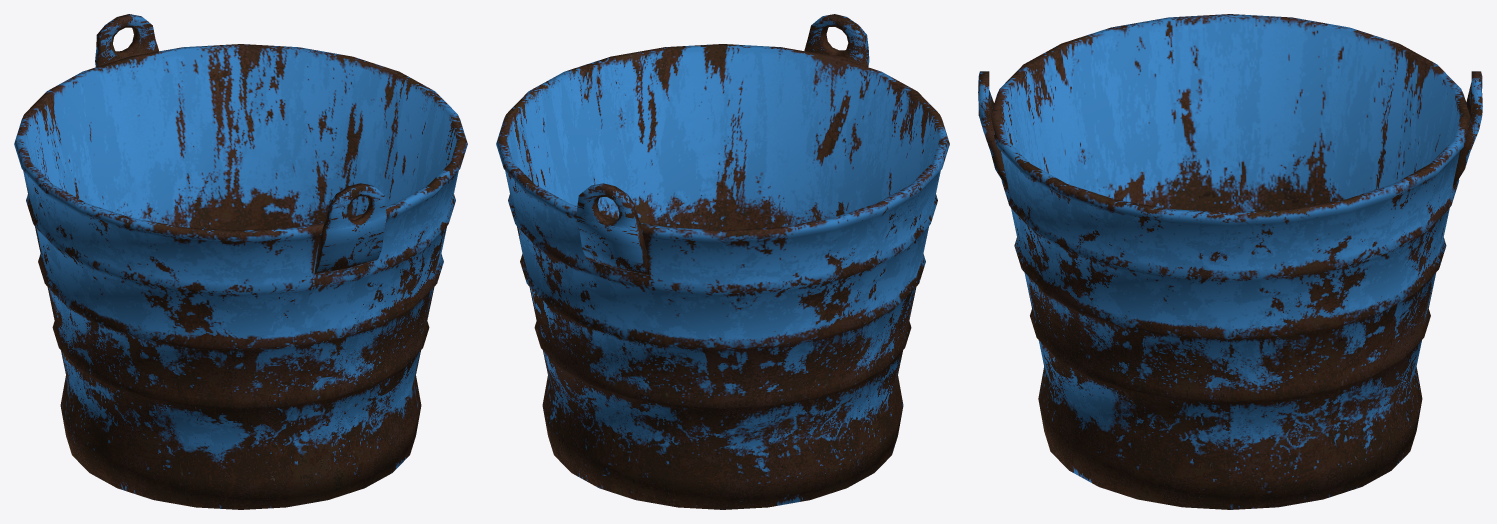
The model's file is bucket.dae.
3 views of the same model, side by side, from view 1: azimuth 30°, elevation 25°; view 2: azimuth 150°, elevation 25°; view 3: azimuth 270°, elevation 25° (orthographic). The views are drawn at different scales.
Parts seen in each view (by area): view 1: Cylinder; view 2: Cylinder; view 3: Cylinder.
Part boxes in pixels (box(x1,y1,x2,y2)): Cylinder: box(14, 14, 467, 509); Cylinder: box(496, 14, 949, 509); Cylinder: box(978, 14, 1482, 509).
Size of the model in its own units: 2.59 by 2.71 by 2.11.
1 material, 1 textured.
